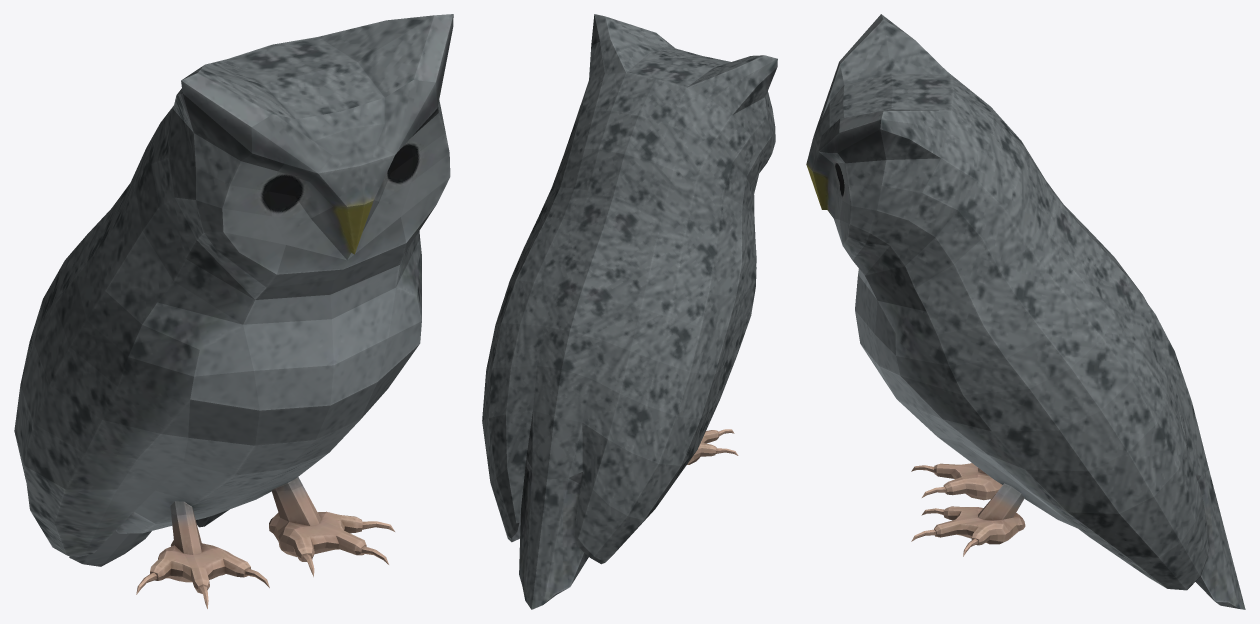
Rendered from eoAo21aoZHJ.glb.
3 renders of one model, left to right at view 1: azimuth 30°, elevation 25°; view 2: azimuth 150°, elevation 25°; view 3: azimuth 270°, elevation 25°, orthographic. The views are drawn at different scales.
Visible parts, largest first — view 1: ScreechOwl_mesh; view 2: ScreechOwl_mesh; view 3: ScreechOwl_mesh.
Part boxes in pixels (bbox=[...]): ScreechOwl_mesh: bbox=[14, 14, 453, 608]; ScreechOwl_mesh: bbox=[482, 14, 777, 609]; ScreechOwl_mesh: bbox=[806, 14, 1245, 609].
Size of the model in its own units: 0.4737 by 1 by 0.731.
1 material, 1 textured.
